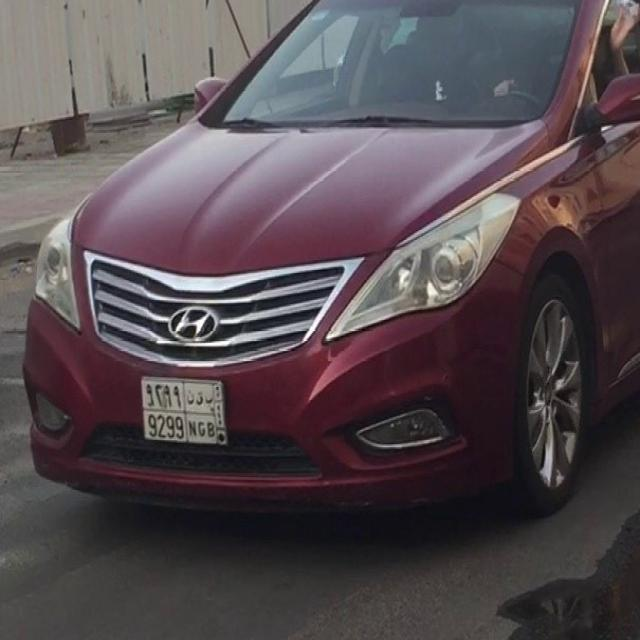Car-plate: (132, 365, 239, 465)
